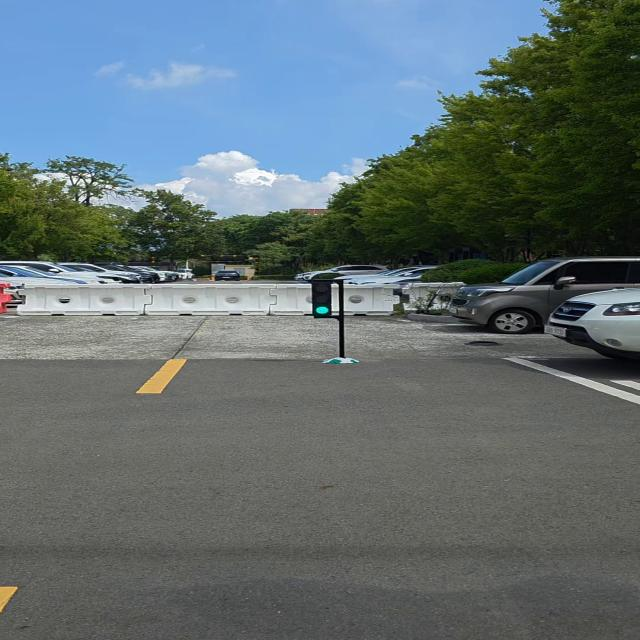green: (311, 277, 342, 319)
